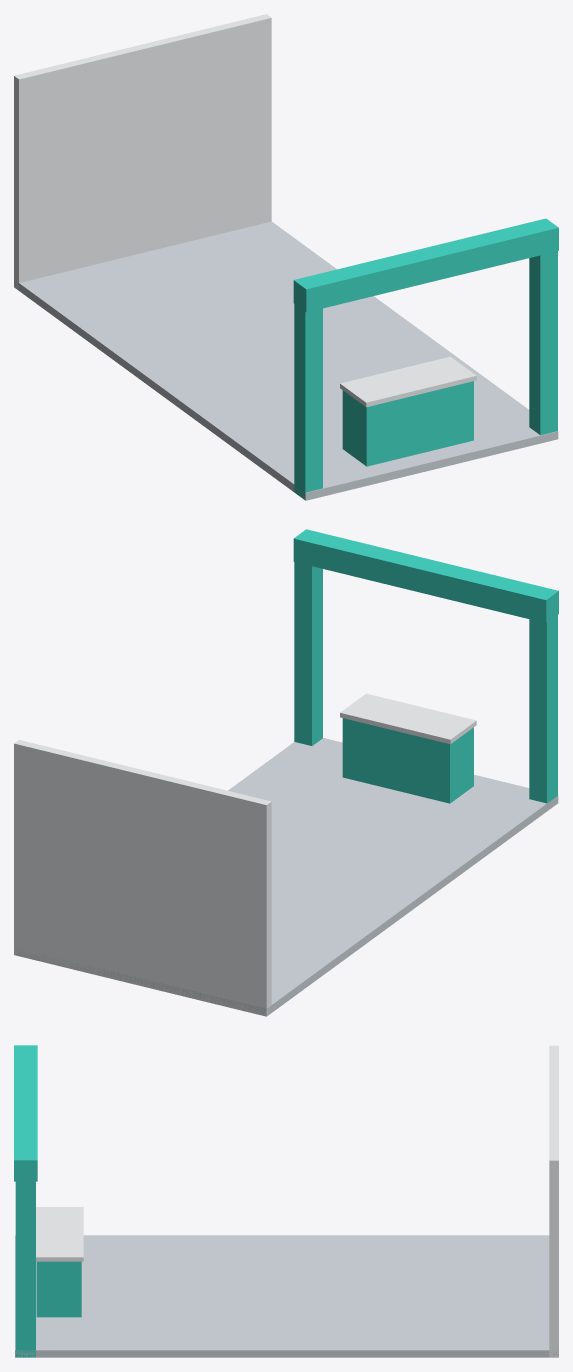
3 renders of one model, top to bottom at view 1: azimuth 30°, elevation 25°; view 2: azimuth 150°, elevation 25°; view 3: azimuth 270°, elevation 25°, orthographic. The views are drawn at different scales.
Visible parts, largest first — view 1: Exhibition Booth Concept; view 2: Exhibition Booth Concept; view 3: Exhibition Booth Concept.
Part boxes in pixels (x1,y1,x2,y2): Exhibition Booth Concept: [14, 14, 558, 500]; Exhibition Booth Concept: [14, 529, 558, 1016]; Exhibition Booth Concept: [14, 1045, 558, 1357].
Size of the model in its own units: 4 by 3.2 by 8.01.
